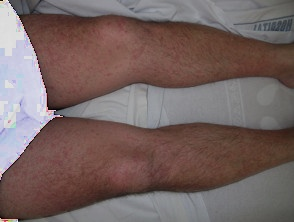SJS-TEN: (29, 0, 159, 108), (14, 150, 136, 222)
